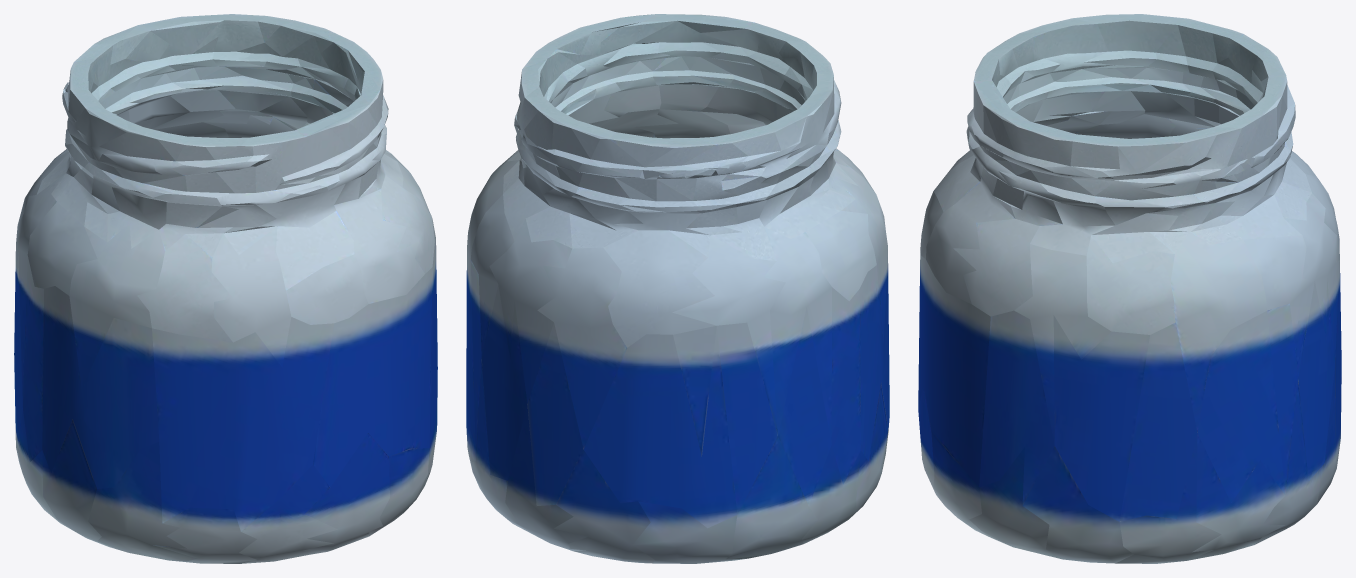
The model's file is boya-kavanozu.glb.
3 renders of one model, left to right at view 1: azimuth 30°, elevation 25°; view 2: azimuth 150°, elevation 25°; view 3: azimuth 270°, elevation 25°, orthographic.
Visible parts, largest first — view 1: output_unwrapped; view 2: output_unwrapped; view 3: output_unwrapped.
Boxes of the visible parts, x1,y1,x2,y2 form: output_unwrapped: (14, 14, 437, 563); output_unwrapped: (466, 14, 889, 563); output_unwrapped: (918, 14, 1341, 563).
Size of the model in its own units: 1.78 by 1.9 by 1.78.
Materials: 1 (1 with a texture image).
